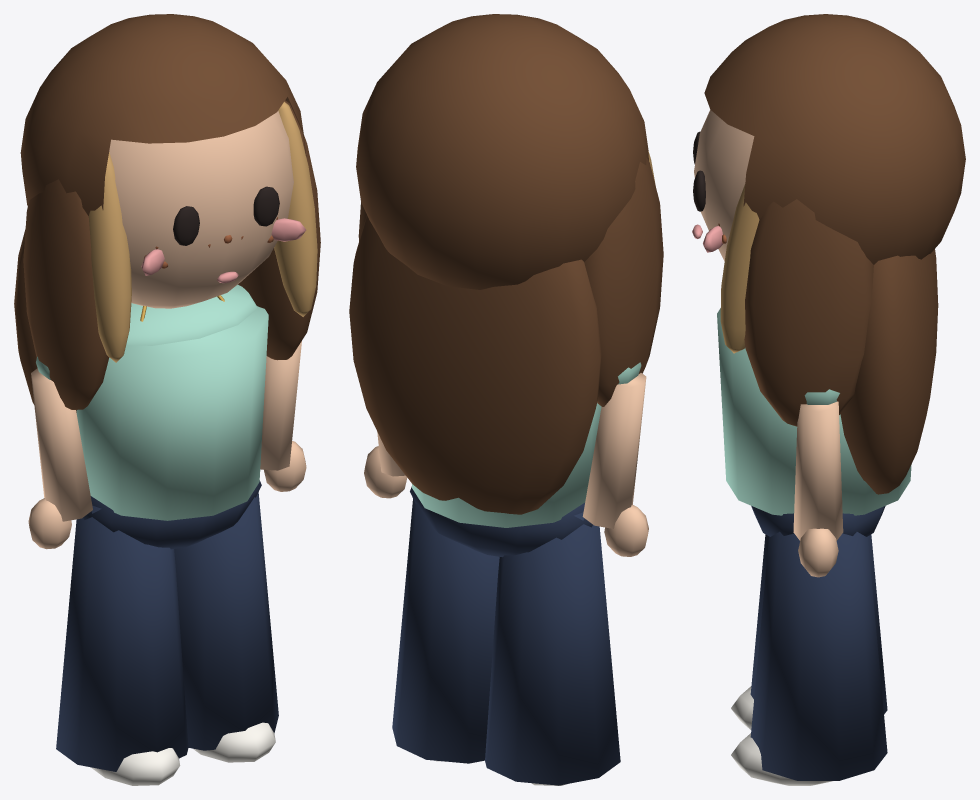
Rendered from madeline.glb.
3 renders of one model, left to right at view 1: azimuth 30°, elevation 25°; view 2: azimuth 150°, elevation 25°; view 3: azimuth 270°, elevation 25°, orthographic. The views are drawn at different scales.
Visible parts, largest first — view 1: Madeline_HairBack, Madeline_Hips, Madeline_Arm_L, Madeline_Shoulders, Madeline_Highlight_L, Madeline_Shoe_L, Madeline_Eye_L, Madeline_Blush_L; view 2: Madeline_HairBack, Madeline_Hips, Madeline_Arm_L, Madeline_Shoulders; view 3: Madeline_HairBack, Madeline_Hips, Madeline_Arm_L, Madeline_Shoulders, Madeline_Highlight_L, Madeline_Shoe_L, Madeline_Eye_L, Madeline_Blush_L.
Boxes of the visible parts, bbox=[...] form: Madeline_HairBack: bbox=[14, 14, 320, 412]; Madeline_Hips: bbox=[56, 480, 278, 771]; Madeline_Arm_L: bbox=[28, 111, 306, 549]; Madeline_Shoulders: bbox=[36, 284, 268, 520]; Madeline_Highlight_L: bbox=[88, 101, 317, 362]; Madeline_Shoe_L: bbox=[91, 722, 275, 785]; Madeline_Eye_L: bbox=[173, 186, 279, 245]; Madeline_Blush_L: bbox=[141, 218, 306, 283]; Madeline_HairBack: bbox=[349, 14, 663, 514]; Madeline_Hips: bbox=[392, 486, 620, 785]; Madeline_Arm_L: bbox=[364, 373, 648, 556]; Madeline_Shoulders: bbox=[412, 362, 641, 527]; Madeline_HairBack: bbox=[704, 14, 965, 494]; Madeline_Hips: bbox=[750, 506, 887, 780]; Madeline_Arm_L: bbox=[694, 110, 843, 577]; Madeline_Shoulders: bbox=[717, 308, 911, 515]; Madeline_Highlight_L: bbox=[720, 184, 759, 353]; Madeline_Shoe_L: bbox=[731, 686, 832, 785]; Madeline_Eye_L: bbox=[693, 131, 705, 211]; Madeline_Blush_L: bbox=[692, 224, 723, 252].
Size of the model in its own units: 0.346 by 0.873 by 0.297.
